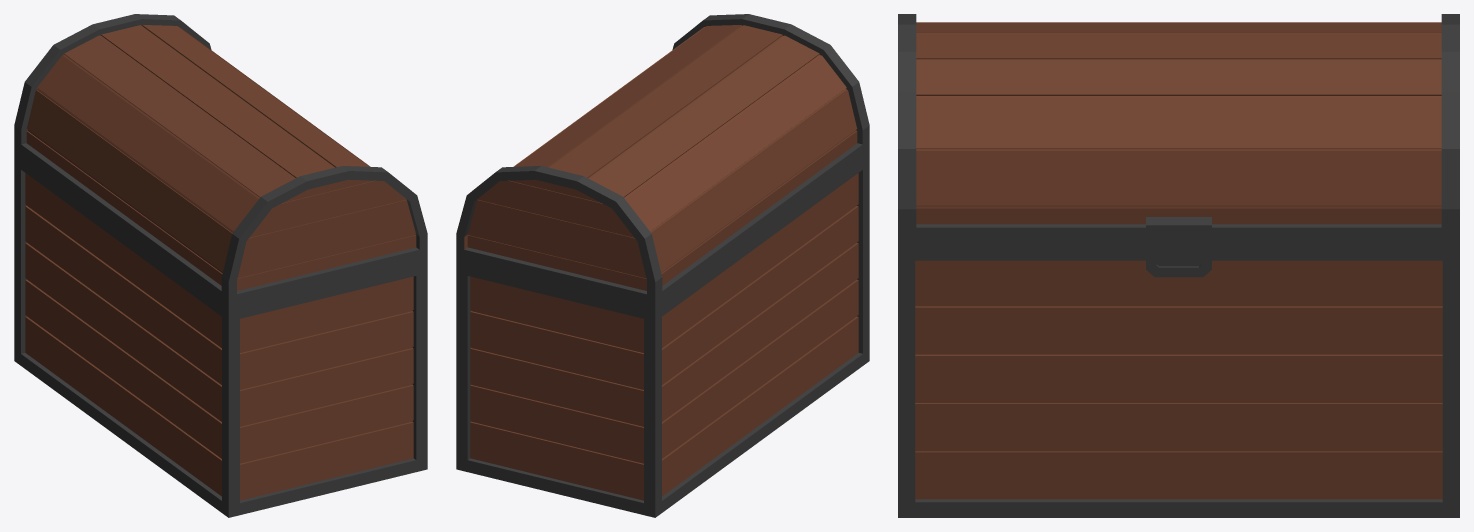
File: chestv2.fbx
3 renders of one model, left to right at view 1: azimuth 30°, elevation 25°; view 2: azimuth 150°, elevation 25°; view 3: azimuth 270°, elevation 25°, orthographic. The views are drawn at different scales.
Visible parts, largest first — view 1: Cube, Cube.001; view 2: Cube, Cube.001; view 3: Cube, Cube.001.
Part boxes in pixels (<box>): Cube: <box>14,153,427,517</box>; Cube.001: <box>14,14,427,309</box>; Cube: <box>456,153,869,517</box>; Cube.001: <box>456,14,869,309</box>; Cube: <box>898,245,1459,517</box>; Cube.001: <box>898,14,1459,277</box>.
Bounding box in the file's own units: 208 × 305 × 373.
